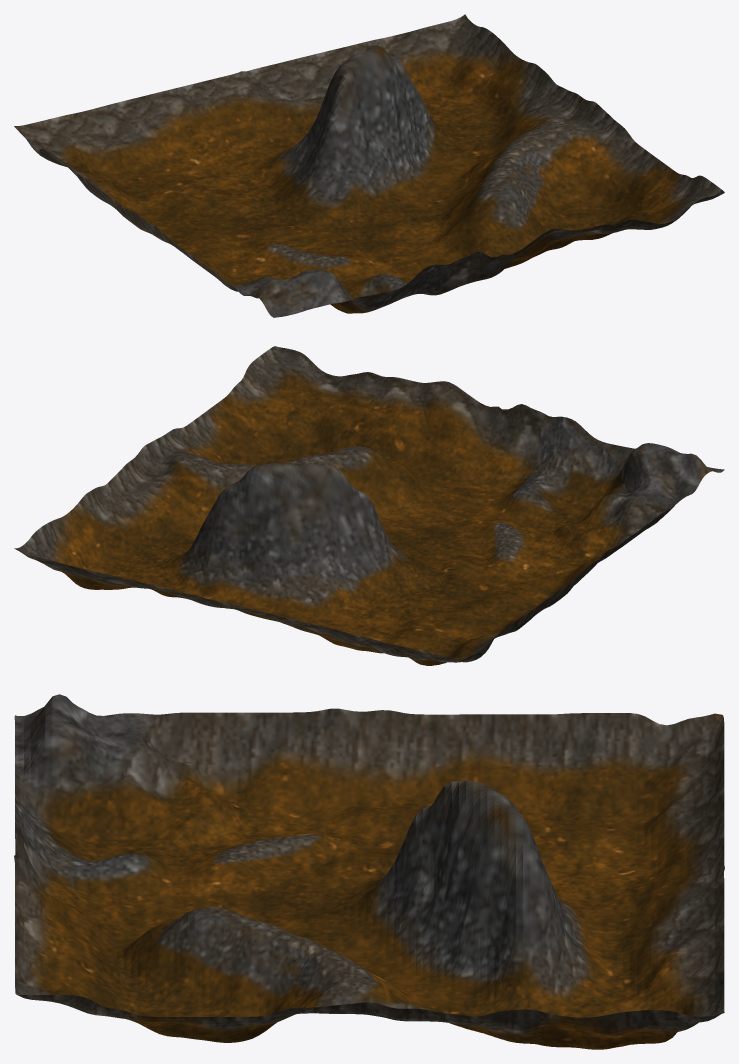
File: Map.fbx
3 renders of one model, top to bottom at view 1: azimuth 30°, elevation 25°; view 2: azimuth 150°, elevation 25°; view 3: azimuth 270°, elevation 25°, orthographic. The views are drawn at different scales.
Visible parts, largest first — view 1: Plane; view 2: Plane; view 3: Plane.
Boxes of the visible parts, x1,y1,x2,y2 form: Plane: (14, 14, 724, 317); Plane: (14, 346, 724, 665); Plane: (14, 694, 724, 1049).
Size of the model in its own units: 7896 by 7899 by 1920.
Materials: 1 (1 with a texture image).
